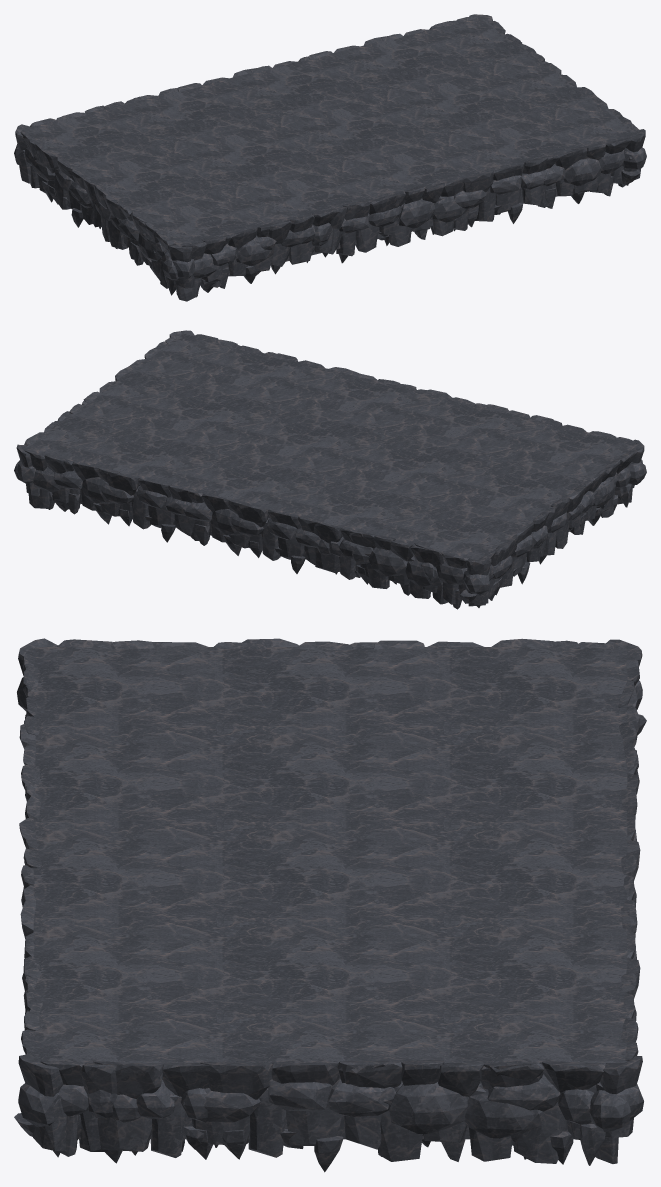
Rendered from SM_TableBase_T2b.fbx.
The picture shows the model from 3 angles, top to bottom: view 1: azimuth 30°, elevation 25°; view 2: azimuth 150°, elevation 25°; view 3: azimuth 270°, elevation 25°; orthographic projection. The views are drawn at different scales.
Parts seen in each view (by area): view 1: SM_TableBase_T2b; view 2: SM_TableBase_T2b; view 3: SM_TableBase_T2b.
Part boxes in pixels (x1,y1,x2,y2): SM_TableBase_T2b: (14, 14, 646, 301); SM_TableBase_T2b: (14, 330, 646, 609); SM_TableBase_T2b: (14, 638, 646, 1172).
Bounding box in the file's own units: 1631 × 1003 × 217.
